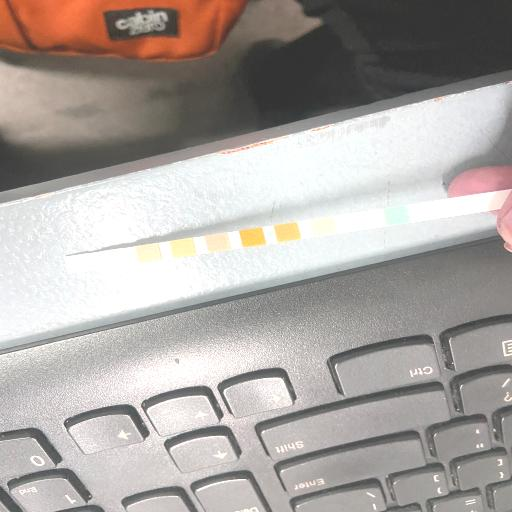Bilirubin: (348, 214, 370, 228)
Blood: (242, 230, 264, 244)
Glucose: (386, 208, 407, 224)
Ketone: (313, 220, 335, 234)
Leukocytes: (68, 256, 90, 270)
Nitrite: (104, 251, 124, 265)
Protein: (172, 241, 194, 255)
SpGravity: (276, 226, 298, 240)
Urobilinogen: (138, 246, 160, 260)
pH: (208, 236, 228, 250)
strip: (64, 190, 512, 273)
